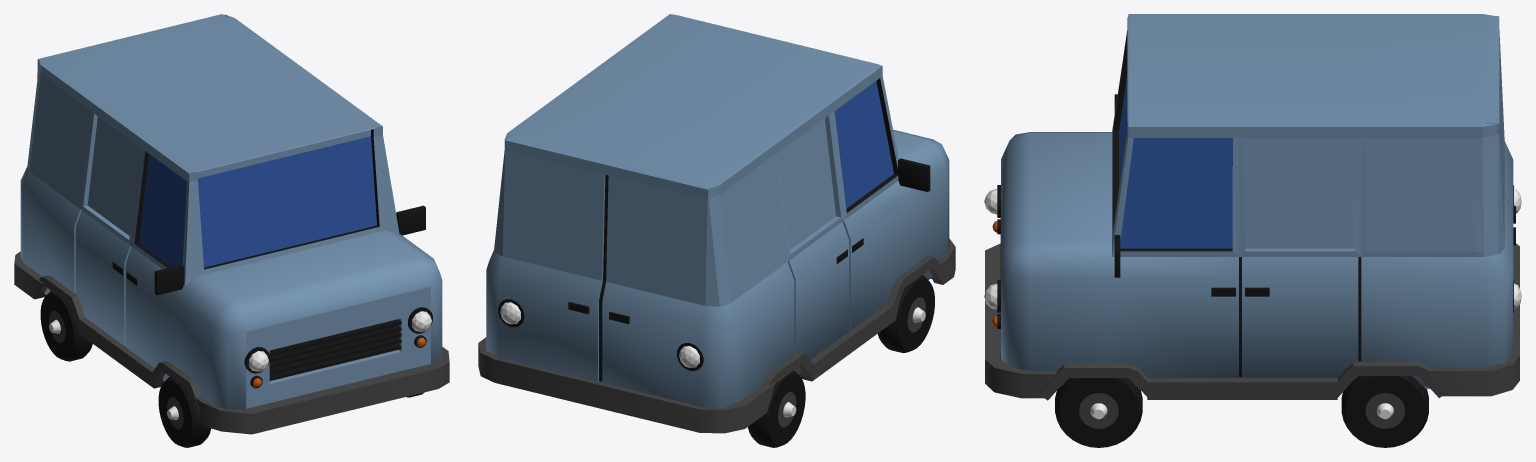
File: Van01.fbx
3 views of the same model, side by side, from view 1: azimuth 30°, elevation 25°; view 2: azimuth 150°, elevation 25°; view 3: azimuth 270°, elevation 25° (orthographic). The views are drawn at different scales.
Parts seen in each view (by area): view 1: Van_1387:ChamferBox001; view 2: Van_1387:ChamferBox001; view 3: Van_1387:ChamferBox001.
Boxes of the visible parts, x1,y1,x2,y2 form: Van_1387:ChamferBox001: [14, 14, 449, 447]; Van_1387:ChamferBox001: [478, 14, 955, 447]; Van_1387:ChamferBox001: [984, 14, 1521, 447].
Size of the model in its own units: 3.62 by 3.36 by 5.25.
